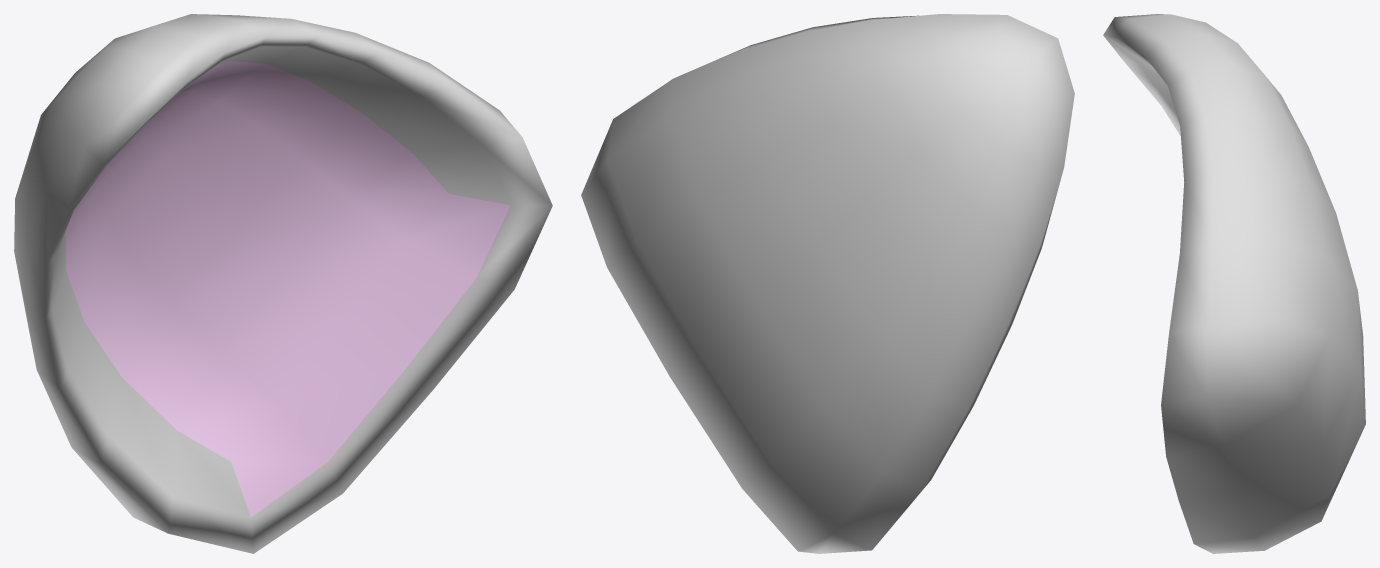
Rendered from Pointed.fbx.
The picture shows the model from 3 angles, left to right: view 1: azimuth 30°, elevation 25°; view 2: azimuth 150°, elevation 25°; view 3: azimuth 270°, elevation 25°; orthographic projection. The views are drawn at different scales.
Visible parts, largest first — view 1: Pointed; view 2: Pointed; view 3: Pointed.
Part boxes in pixels (bbox=[...]): Pointed: bbox=[14, 14, 552, 553]; Pointed: bbox=[581, 14, 1074, 553]; Pointed: bbox=[1103, 14, 1365, 553].
Size of the model in its own units: 96.47 by 104 by 51.41.
